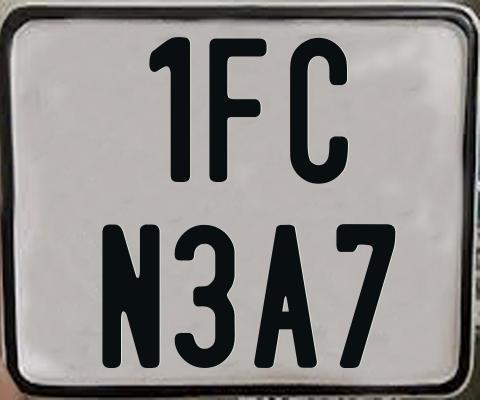1: (148, 37, 189, 185)
3: (171, 225, 236, 372)
7: (336, 222, 399, 367)
A: (253, 225, 319, 368)
C: (287, 38, 346, 185)
F: (209, 36, 267, 184)
N: (102, 224, 161, 373)
